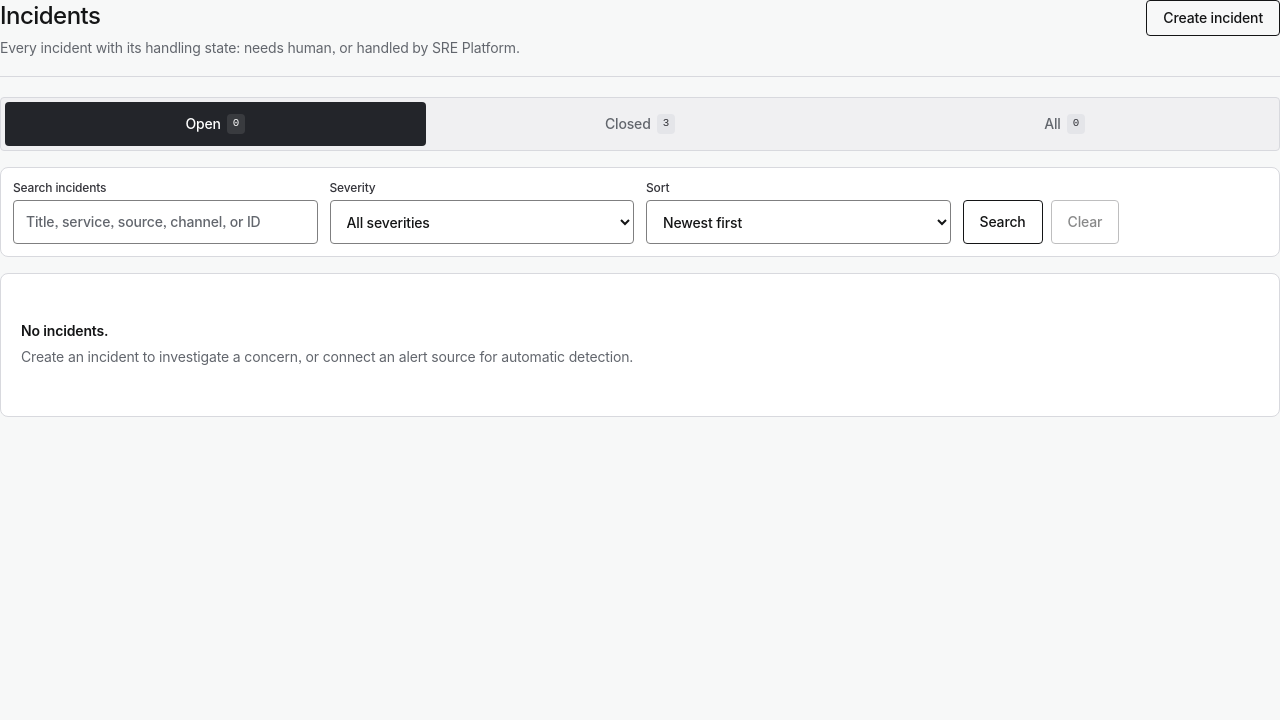
Test: IncidentsPanel closed archive Load more › pages the closed archive via nextCursor, appending rows; the button disappears on the last page
Note: Enter the closed tab: page one is shown, page two is not, and Load more is offered.
Click the tab "Closed 3". click: coordinates (640, 124)
box: [430,102,850,146]
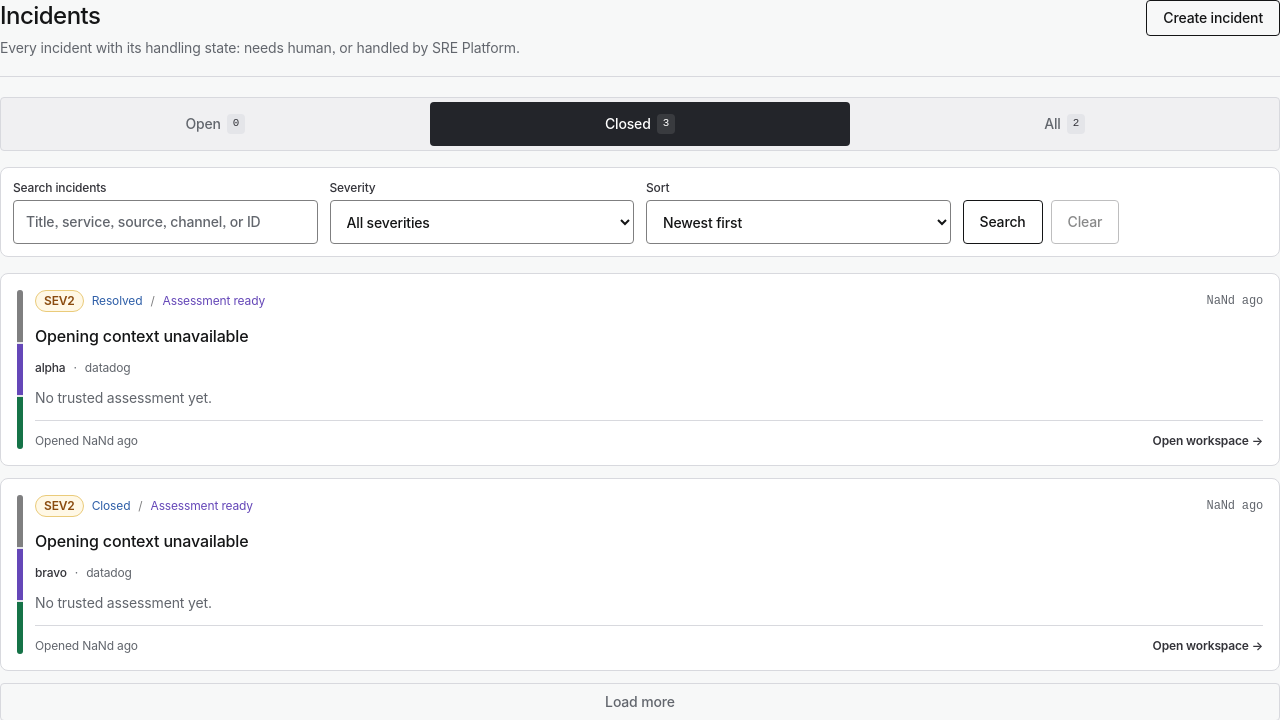
Now the text "alpha" is shown, box [35,360,66,376]
Now the text "bravo" is shown, box [35,565,67,581]
Now the button "Load more" is shown
Click the button "Load more". click: coordinates (640, 702)
box: [0,683,1279,719]
(page scrolled)
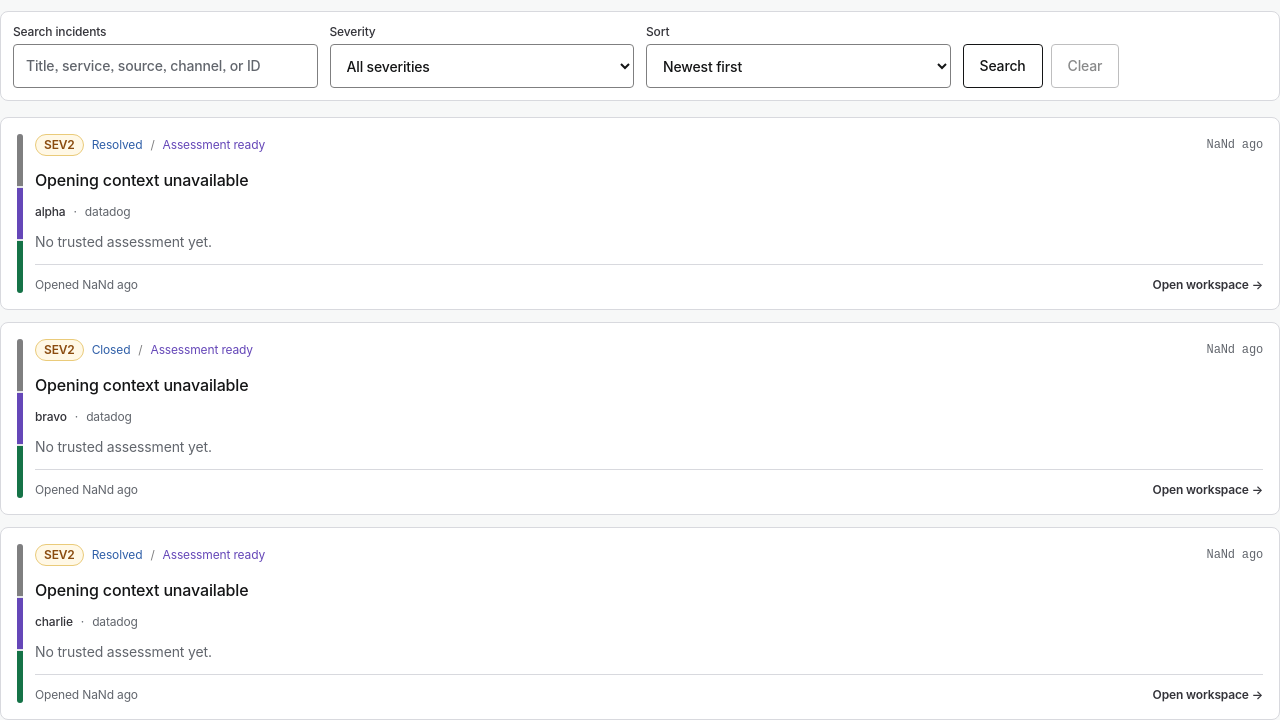
Now the text "alpha" is shown, box [35,204,66,220]
Now the text "bravo" is shown, box [35,409,67,425]
Now the text "charlie" is shown, box [35,614,73,630]
